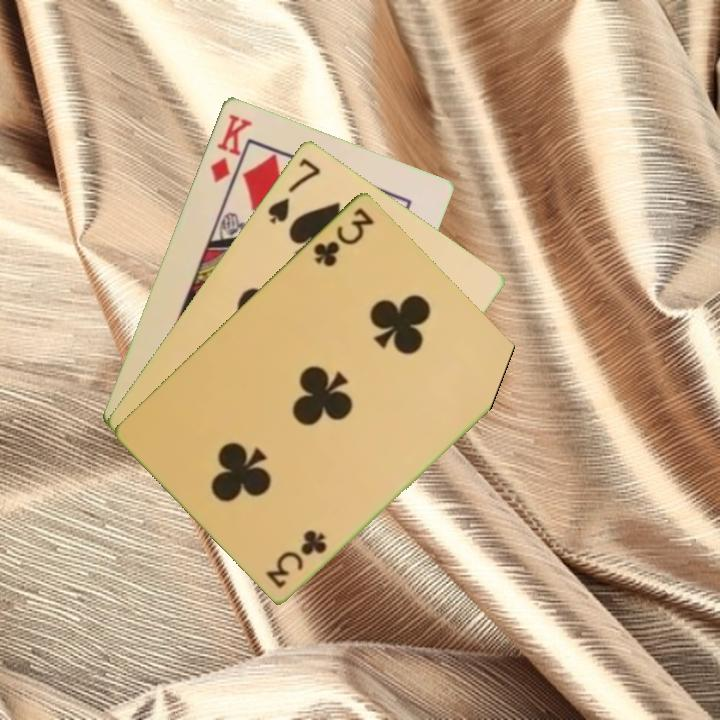3c: (309, 203, 377, 269), (264, 527, 330, 591)
7s: (264, 154, 324, 227)
Kd: (206, 110, 255, 186)
